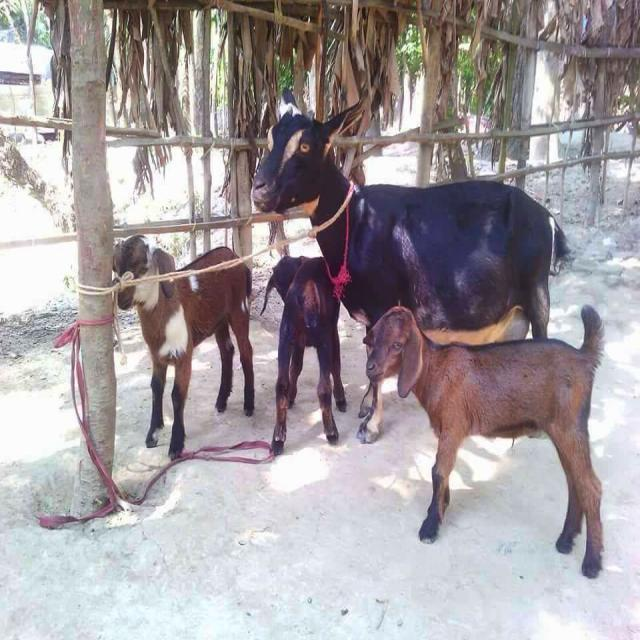Goat: (250, 86, 573, 447), (362, 300, 607, 578), (113, 233, 257, 460), (261, 253, 348, 455)
